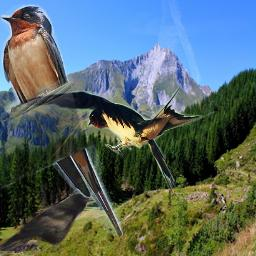Crow: (0, 192, 95, 251)
Swallow: (1, 4, 123, 236), (16, 81, 234, 195)
